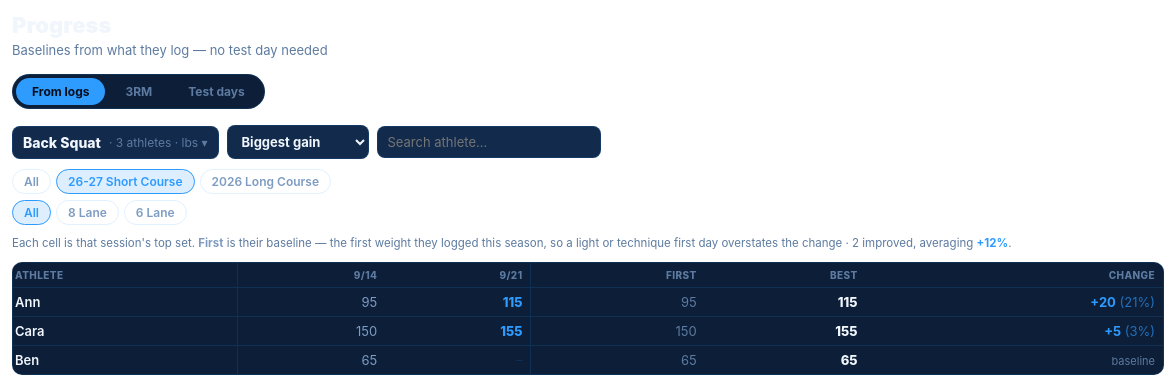
Test: Test days still opens the three-metric view
What coordinates should you click on to do the following:
click the button "Test days"
I would click on:
 (217, 92)
Its box is x1=172 y1=78 x2=261 y2=105.
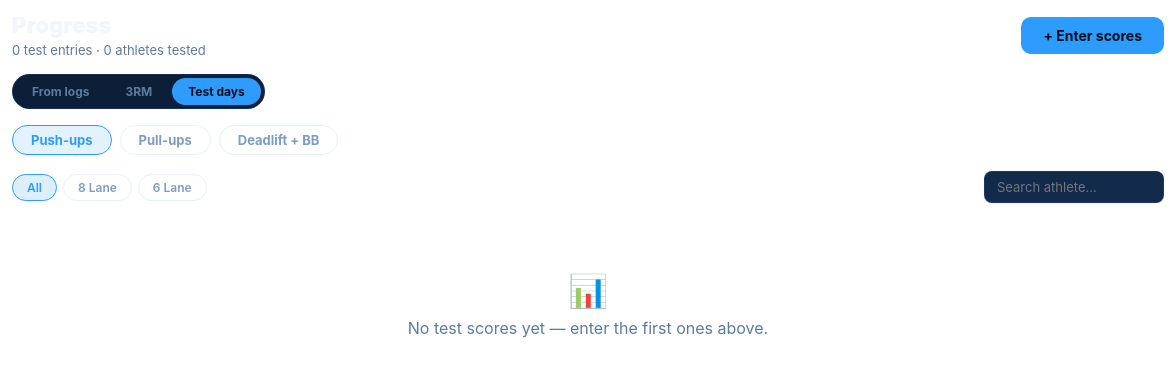
Now the button "+ Enter scores" is shown, box x1=1021 y1=16 x2=1164 y2=54
Now the button "Deadlift + BB" is shown, box x1=219 y1=125 x2=338 y2=155
